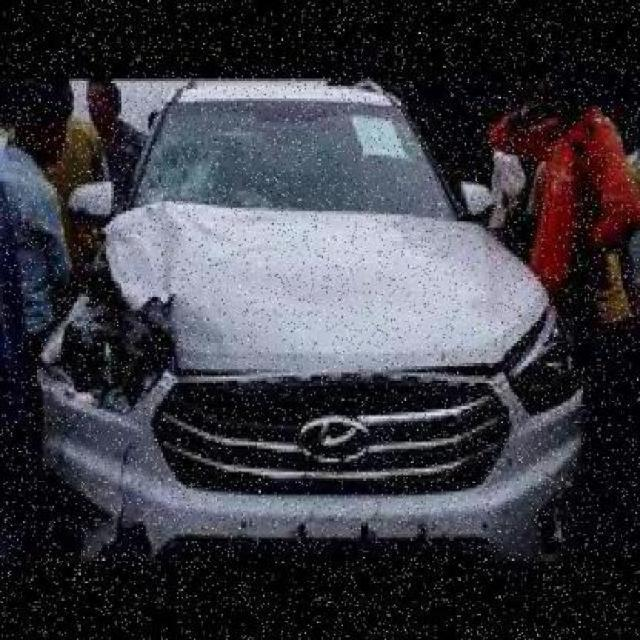bonnet-dent: (69, 201, 531, 397)
